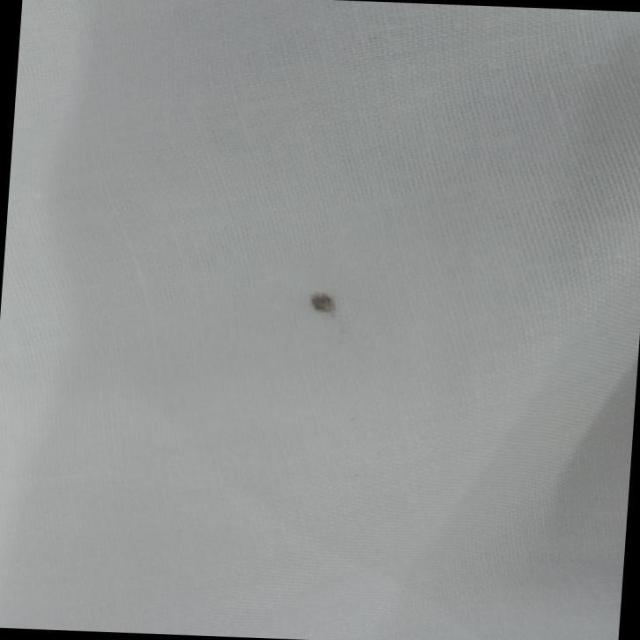stain: (294, 282, 352, 324)
